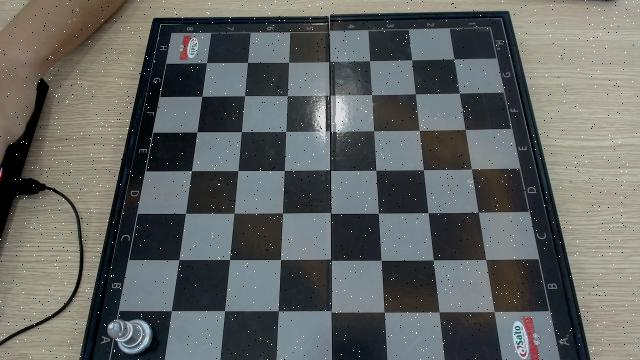white_bishop: (106, 317, 155, 354)
